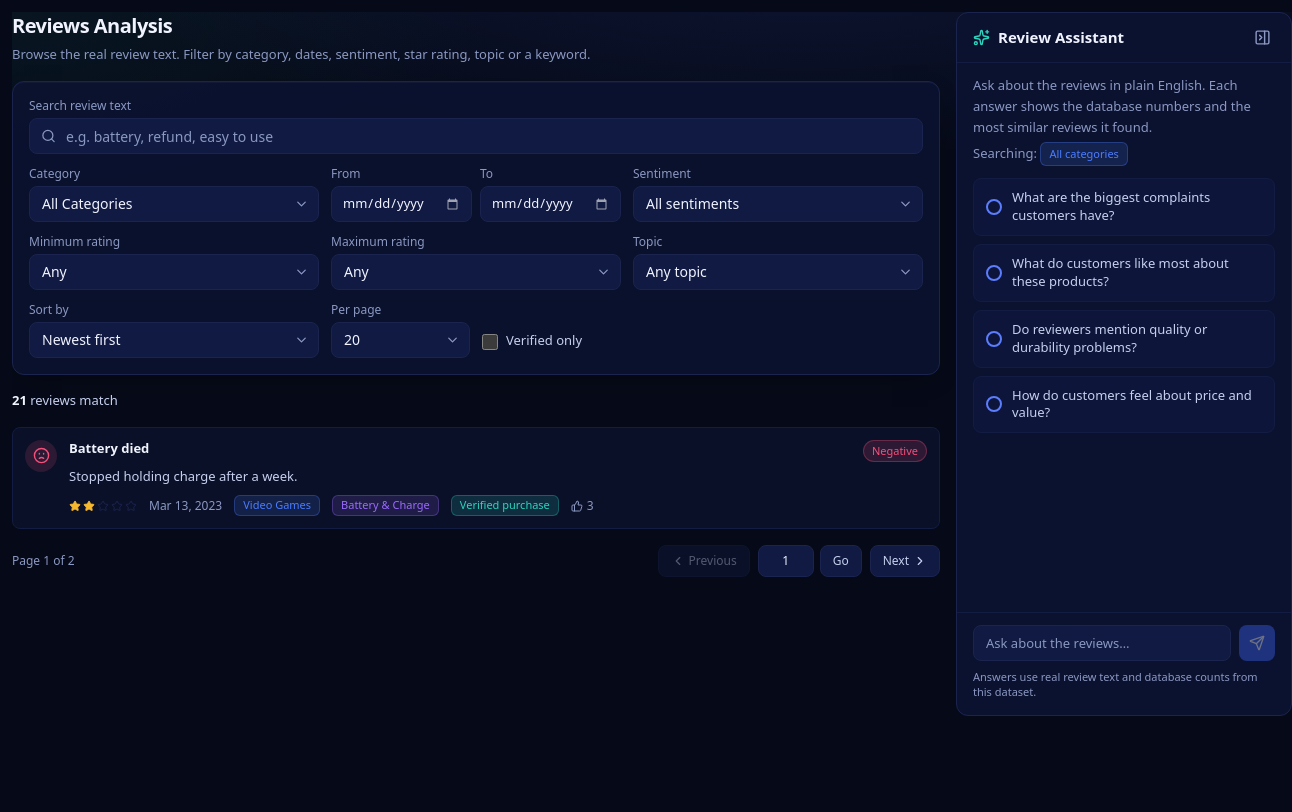
Scenario: ReviewsPage › warns about a reversed date range and does not send it (the API would answer 422)
Expected: the element that starts with "Battery died" is shown, [12,427,940,529]
Type "2023-01-01" into the date field labelled "From" at (402, 204), box [331,186,472,222]
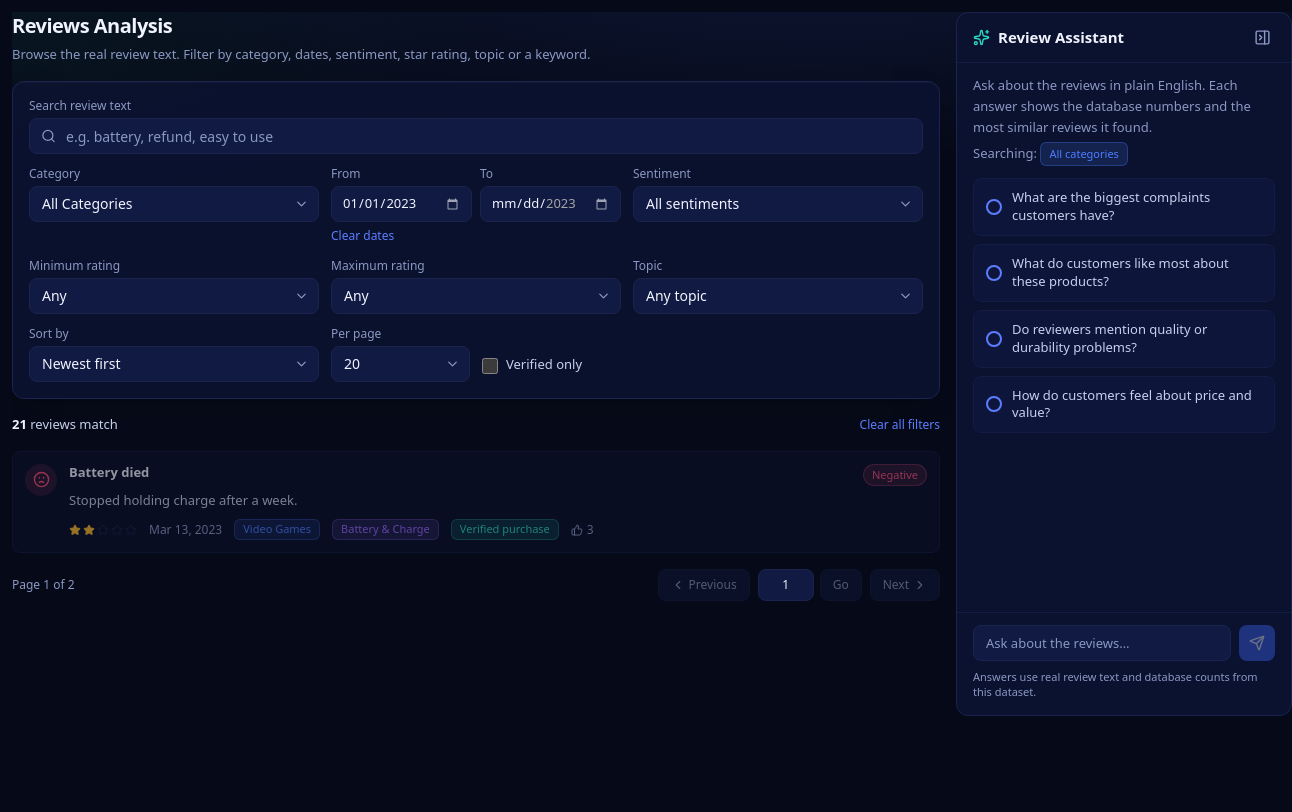
Type "2022-01-01" into the date field labelled "To" at (550, 204), box [480,186,621,222]
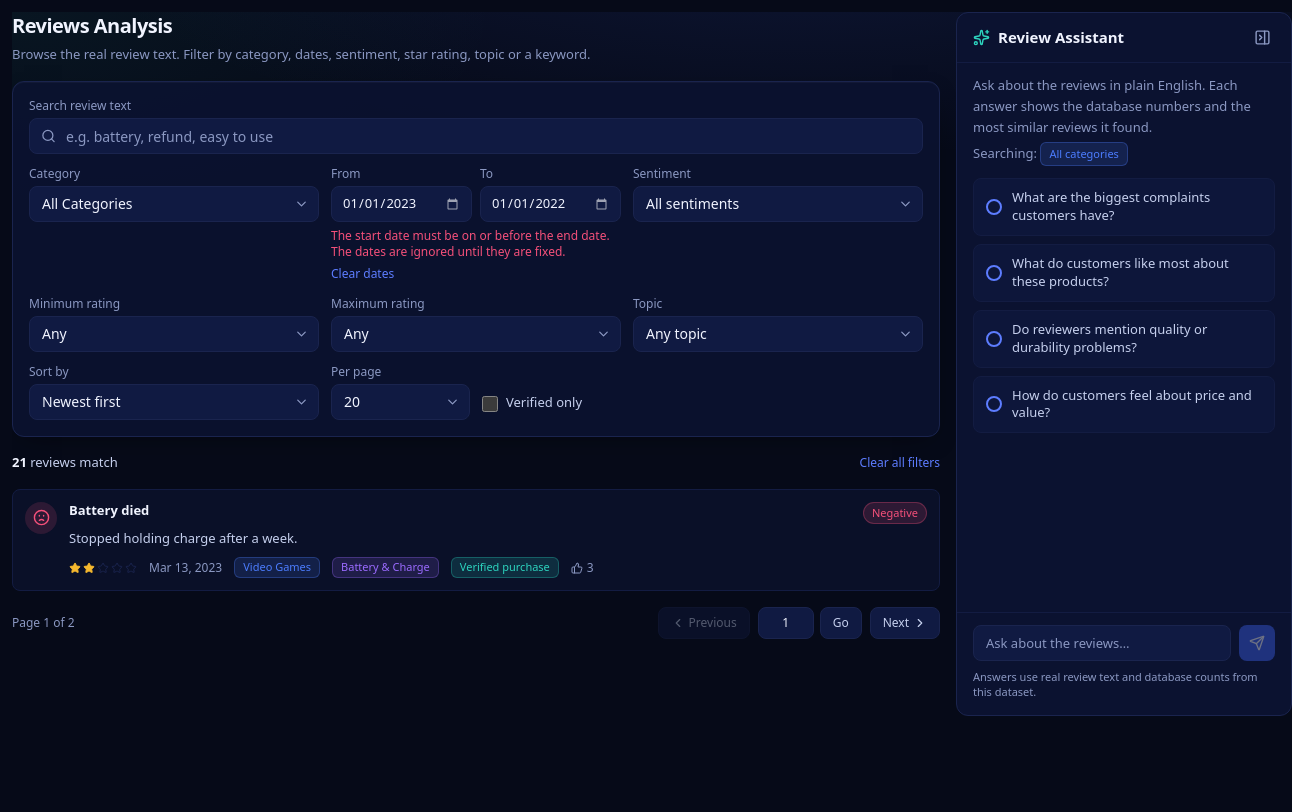
Now the text "start date must be on or before the end date" is shown, box [331,227,610,260]
